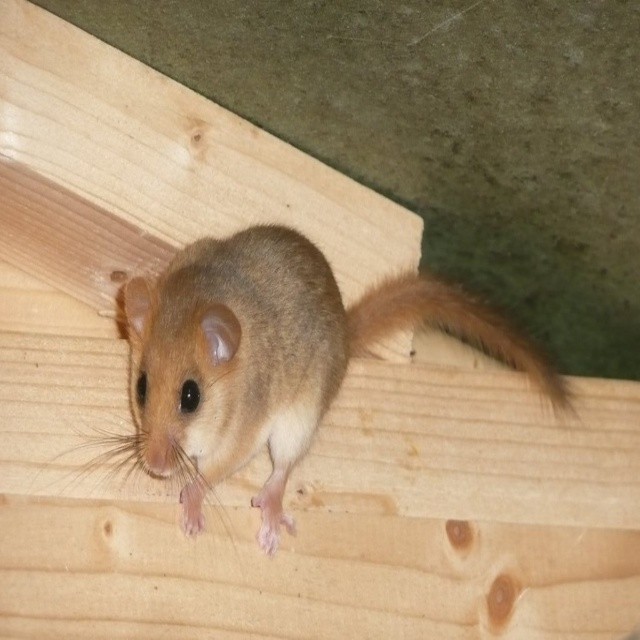Hamster: (25, 222, 581, 560)
